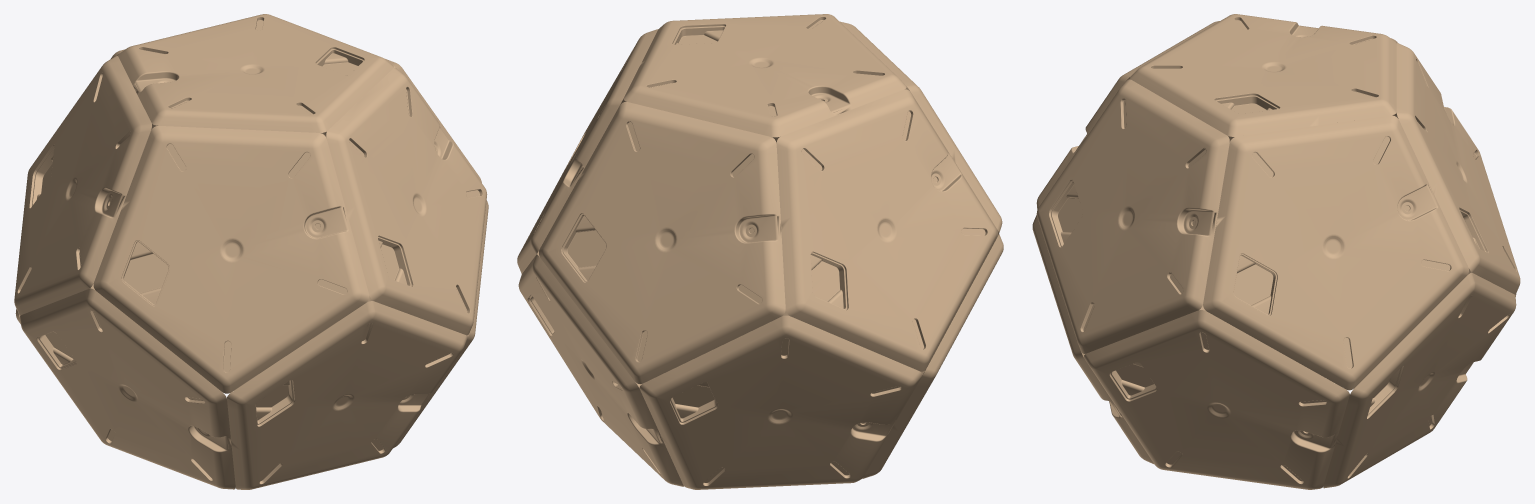
Rendered from shield1.fbx.
The picture shows the model from 3 angles, left to right: view 1: azimuth 30°, elevation 25°; view 2: azimuth 150°, elevation 25°; view 3: azimuth 270°, elevation 25°; orthographic projection. The views are drawn at different scales.
Parts seen in each view (by area): view 1: shield1; view 2: shield1; view 3: shield1.
Boxes of the visible parts, x1,y1,x2,y2 form: shield1: [14, 14, 488, 489]; shield1: [517, 14, 1003, 489]; shield1: [1032, 14, 1520, 489].
Bounding box in the file's own units: 50.49 × 43.45 × 52.95.
